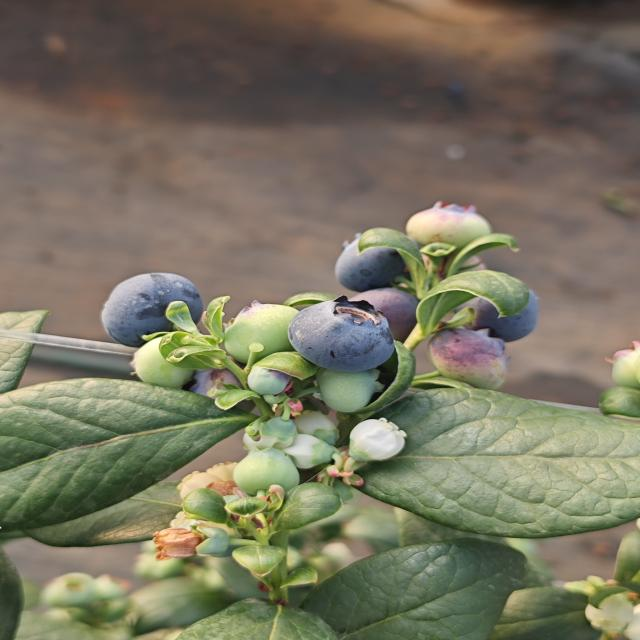ripe: (284, 294, 398, 375), (99, 271, 206, 349), (338, 281, 439, 346), (332, 232, 424, 290), (186, 352, 262, 412), (473, 282, 531, 338)
